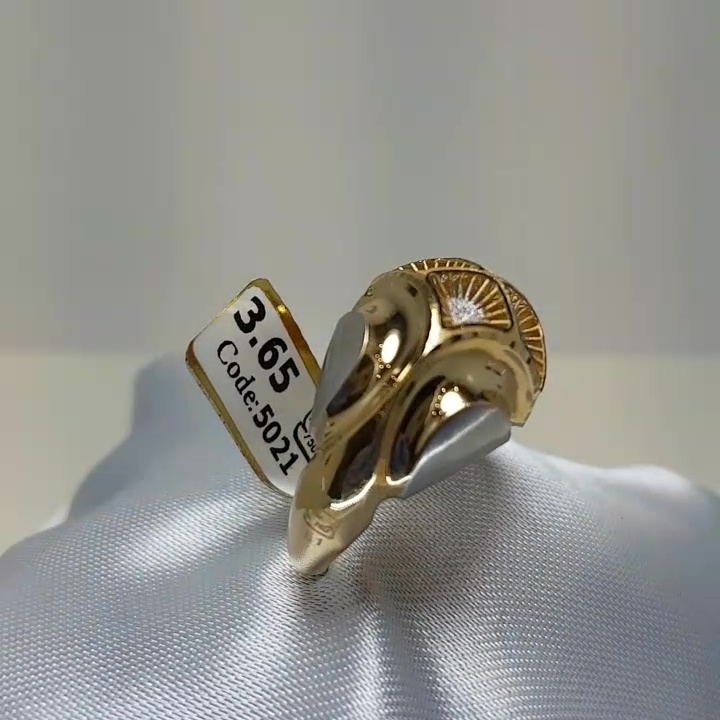Ring 2: (243, 204, 598, 613)
